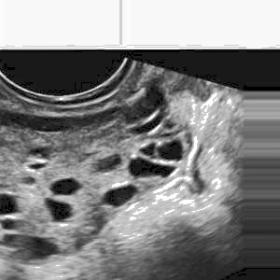PCOS: (126, 153, 177, 182), (102, 183, 139, 207), (45, 197, 74, 224), (28, 236, 58, 262), (93, 153, 124, 174), (50, 176, 81, 196), (157, 138, 185, 158), (27, 144, 55, 160), (0, 193, 19, 215), (140, 140, 159, 158), (0, 217, 21, 233), (24, 162, 54, 172)
